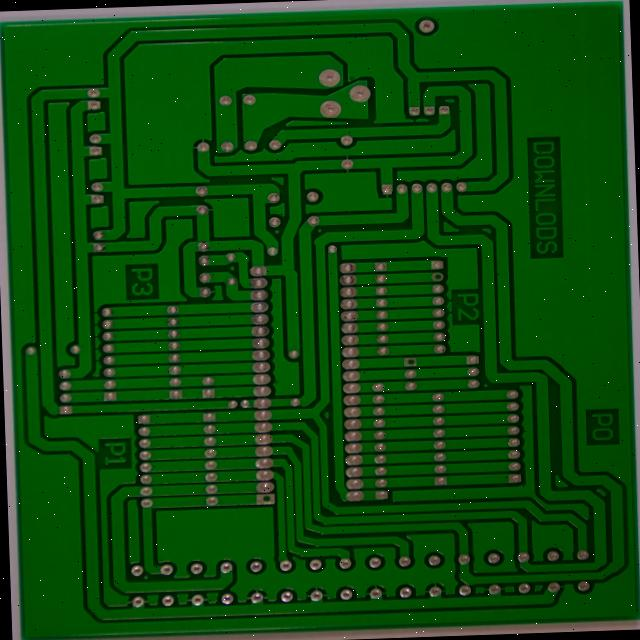missing_hole: (299, 474, 324, 489), (472, 320, 491, 335), (504, 225, 523, 240)
